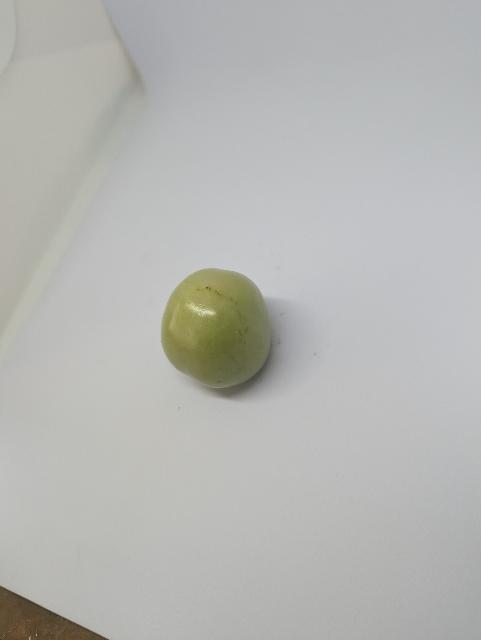green: (158, 265, 276, 391)
